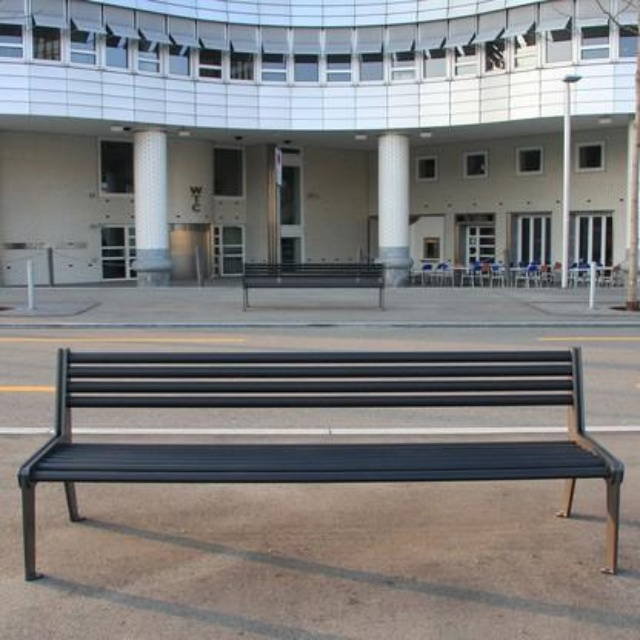obstacle: (14, 334, 629, 571), (225, 242, 409, 309)
